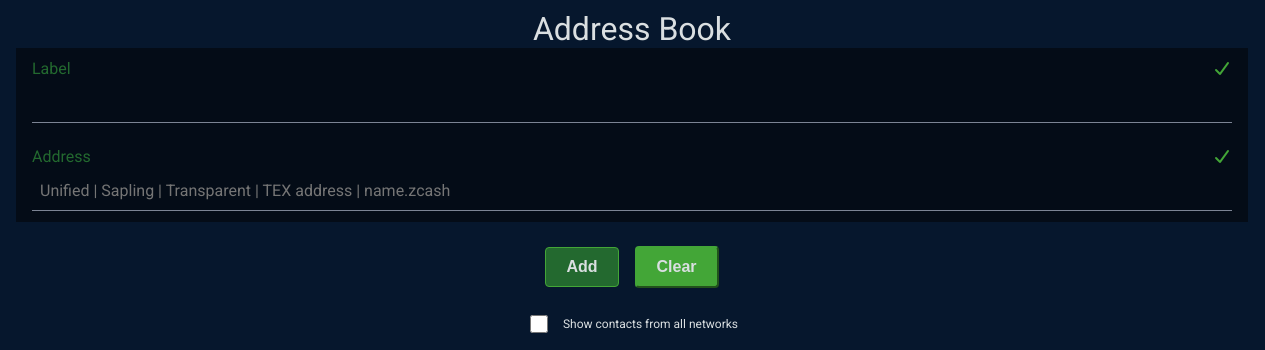
Test: AddressBook › recognizes a unified address and shows 'Unified' tag
In the field labelled "Unified | Sapling | Transparent | TEX address | name.zcash": (632, 190) [32,170,1232,211], type "u1validaddr"
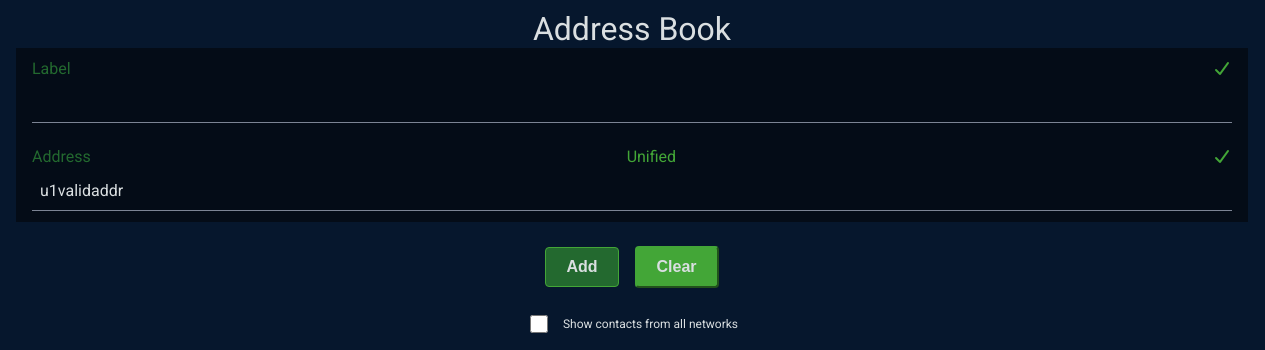
Check: the text "Unified" is shown, box [627,147,676,166]
